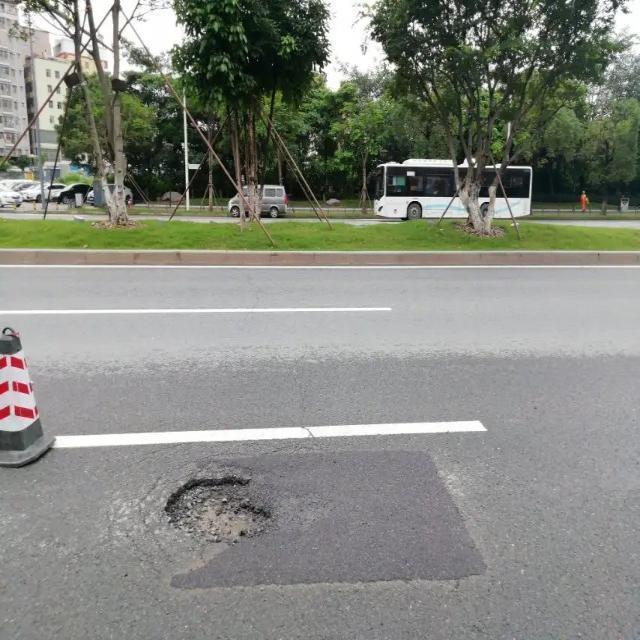Pothole: (160, 473, 281, 547)
